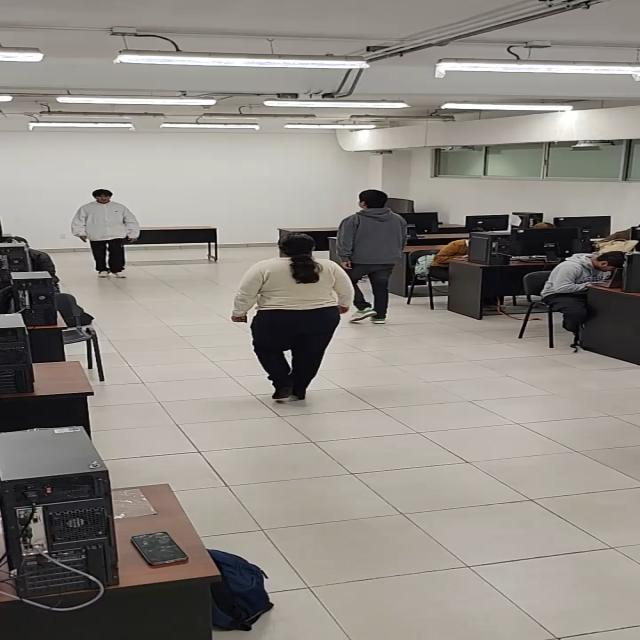Persona: (230, 230, 356, 402), (335, 188, 409, 325), (70, 188, 143, 280)
